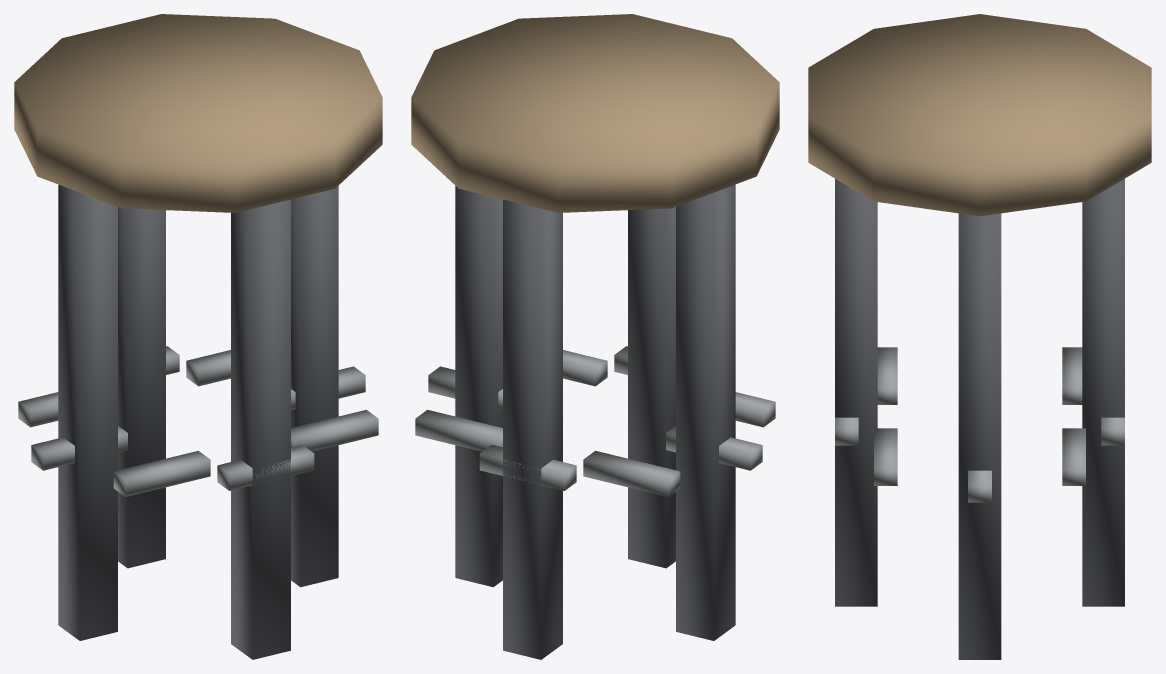
The model's file is shop_stool__squat.glb.
3 views of the same model, side by side, from view 1: azimuth 30°, elevation 25°; view 2: azimuth 150°, elevation 25°; view 3: azimuth 270°, elevation 25° (orthographic).
Visible parts, largest first — view 1: world; view 2: world; view 3: world.
Boxes of the visible parts, x1=… form: world: x1=14, y1=14, x2=382, y2=659; world: x1=411, y1=14, x2=779, y2=659; world: x1=808, y1=14, x2=1151, y2=659.
Size of the model in its own units: 0.418 by 0.6342 by 0.3903.
